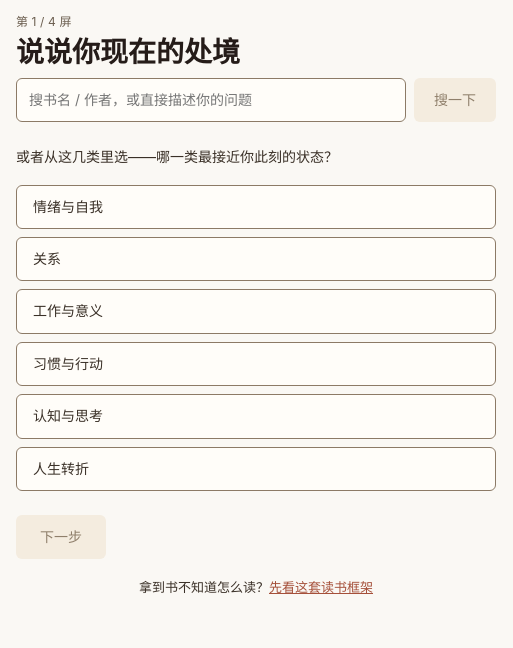
QuizView 四屏流 › 选定主诉后放行
The image size is (513, 648).
Click the button "情绪与自我" at (68, 206), box x1=16 y1=185 x2=496 y2=229
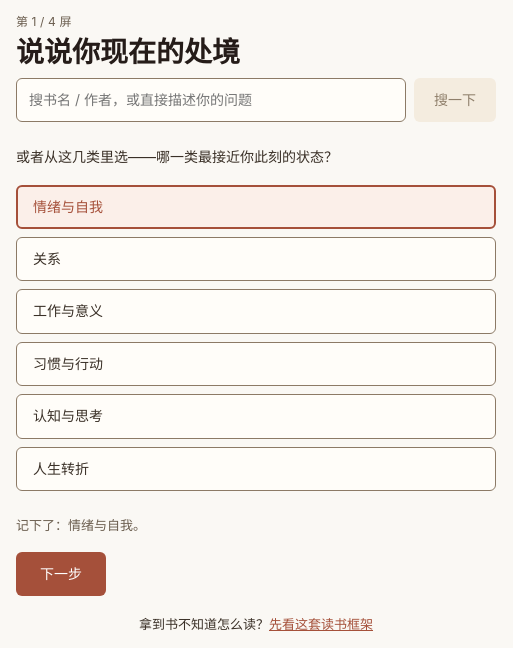
Click the button "下一步" at (61, 574), box x1=16 y1=552 x2=106 y2=596
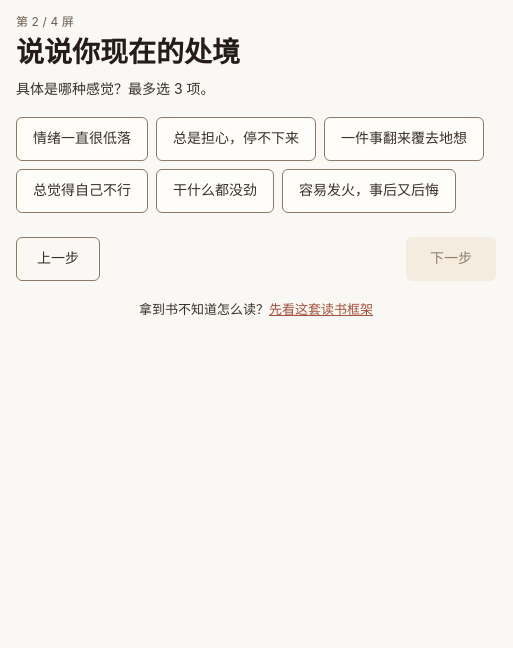
Click the button "情绪一直很低落" at (82, 139), box x1=16 y1=117 x2=148 y2=161
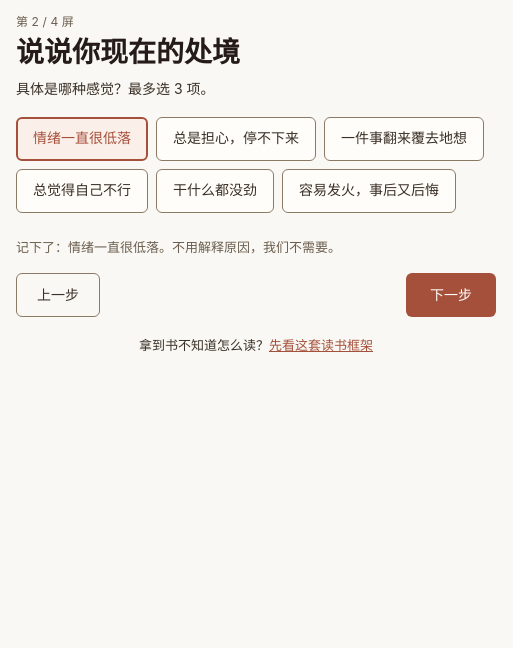
Click the button "总是担心，停不下来" at (236, 139), box x1=156 y1=117 x2=316 y2=161
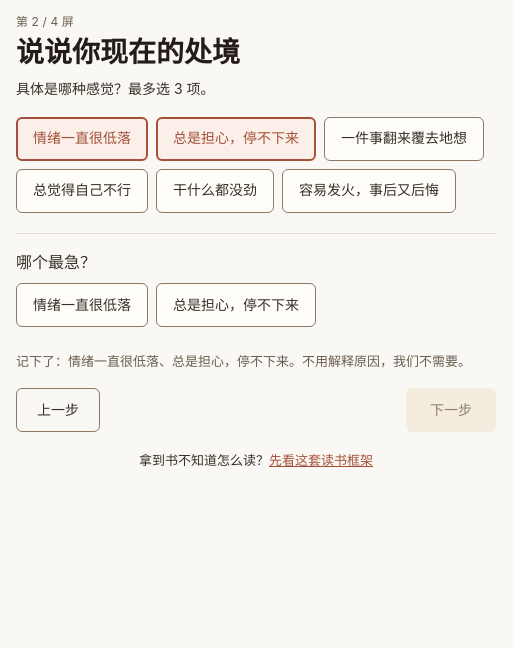
Click the 1st button "情绪一直很低落" at (82, 139), box x1=16 y1=117 x2=148 y2=161
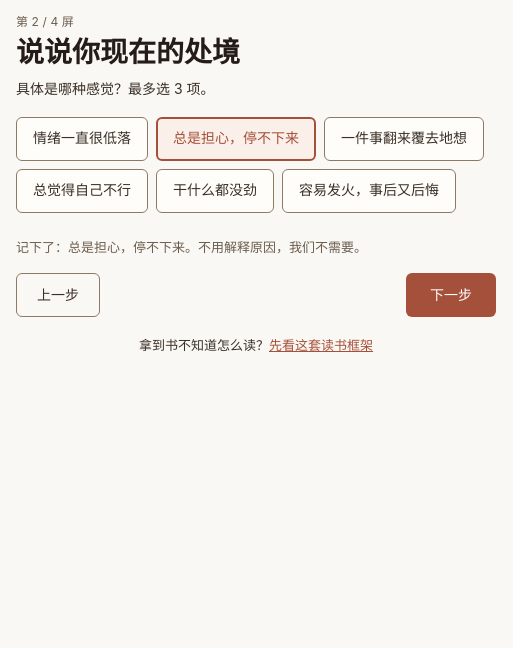
Check: the button "下一步" is enabled, box x1=406 y1=273 x2=496 y2=317
